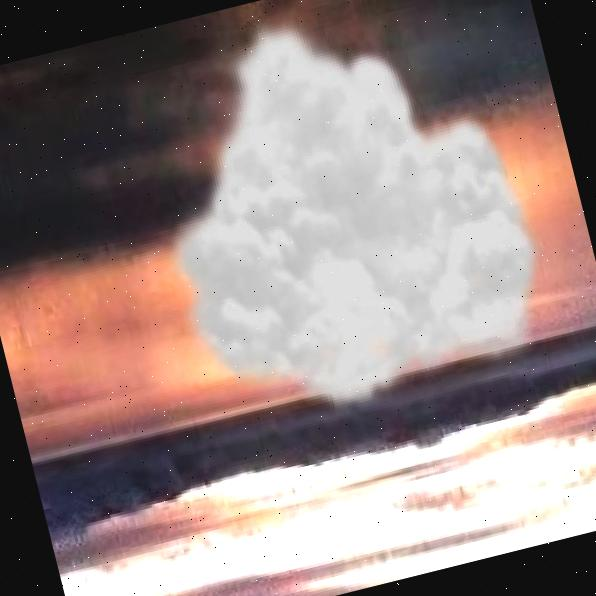smoke: (107, 0, 575, 450)
